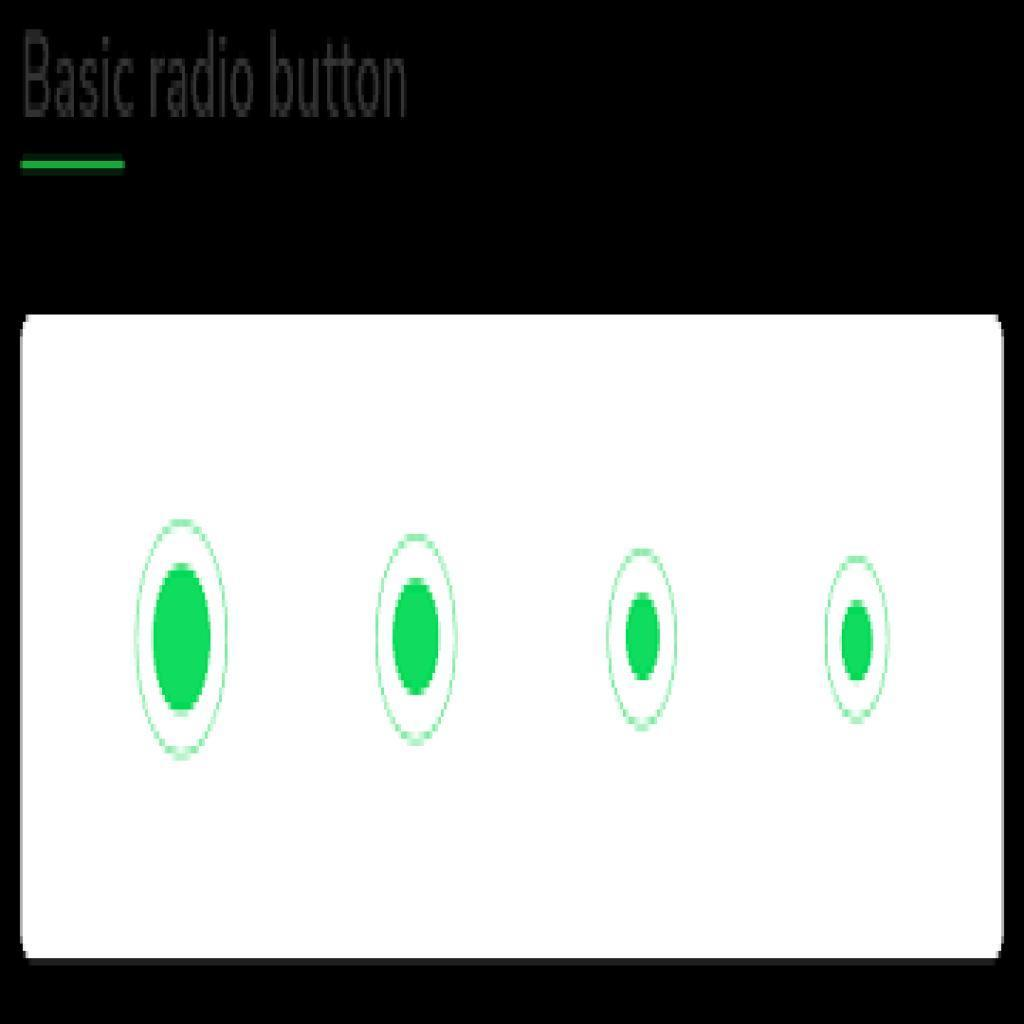radio: (128, 515, 240, 761), (364, 526, 471, 746), (599, 547, 687, 736), (816, 538, 896, 732)
